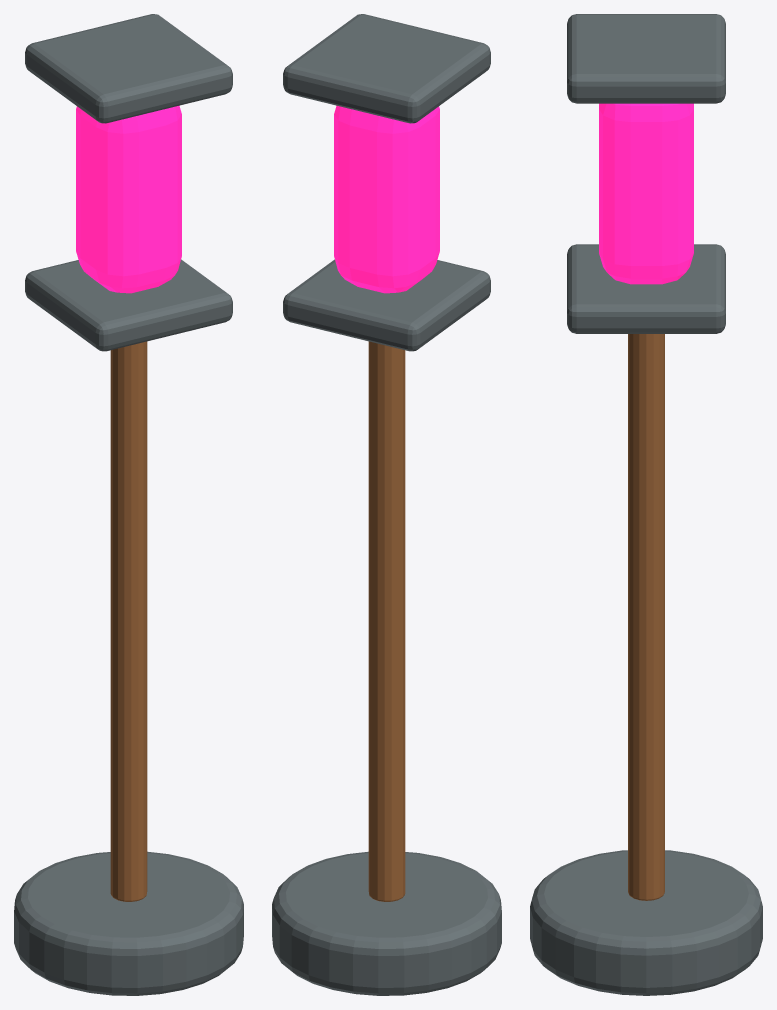
Rendered from APT_Lamp_Floor_Copper.glb.
3 views of the same model, side by side, from view 1: azimuth 30°, elevation 25°; view 2: azimuth 150°, elevation 25°; view 3: azimuth 270°, elevation 25° (orthographic).
Visible parts, largest first — view 1: FloorLamp_Base, FloorLamp_Stem, FloorLamp_Source, FloorLamp_CageTop, FloorLamp_CageBottom; view 2: FloorLamp_Base, FloorLamp_Stem, FloorLamp_Source, FloorLamp_CageTop, FloorLamp_CageBottom; view 3: FloorLamp_Base, FloorLamp_Stem, FloorLamp_Source, FloorLamp_CageTop, FloorLamp_CageBottom.
Boxes of the visible parts, x1,y1,x2,y2 form: FloorLamp_Base: (14, 851, 243, 995); FloorLamp_Stem: (110, 341, 147, 901); FloorLamp_Source: (76, 105, 181, 293); FloorLamp_CageTop: (25, 14, 232, 123); FloorLamp_CageBottom: (25, 259, 232, 351); FloorLamp_Base: (272, 851, 501, 995); FloorLamp_Stem: (368, 341, 405, 901); FloorLamp_Source: (334, 105, 439, 293); FloorLamp_CageTop: (283, 14, 490, 123); FloorLamp_CageBottom: (283, 259, 490, 351); FloorLamp_Base: (530, 850, 762, 995); FloorLamp_Stem: (628, 334, 664, 900); FloorLamp_Source: (599, 103, 693, 284); FloorLamp_CageTop: (567, 14, 725, 103); FloorLamp_CageBottom: (567, 244, 725, 333).
Size of the model in its own units: 0.44 by 1.89 by 0.44.
